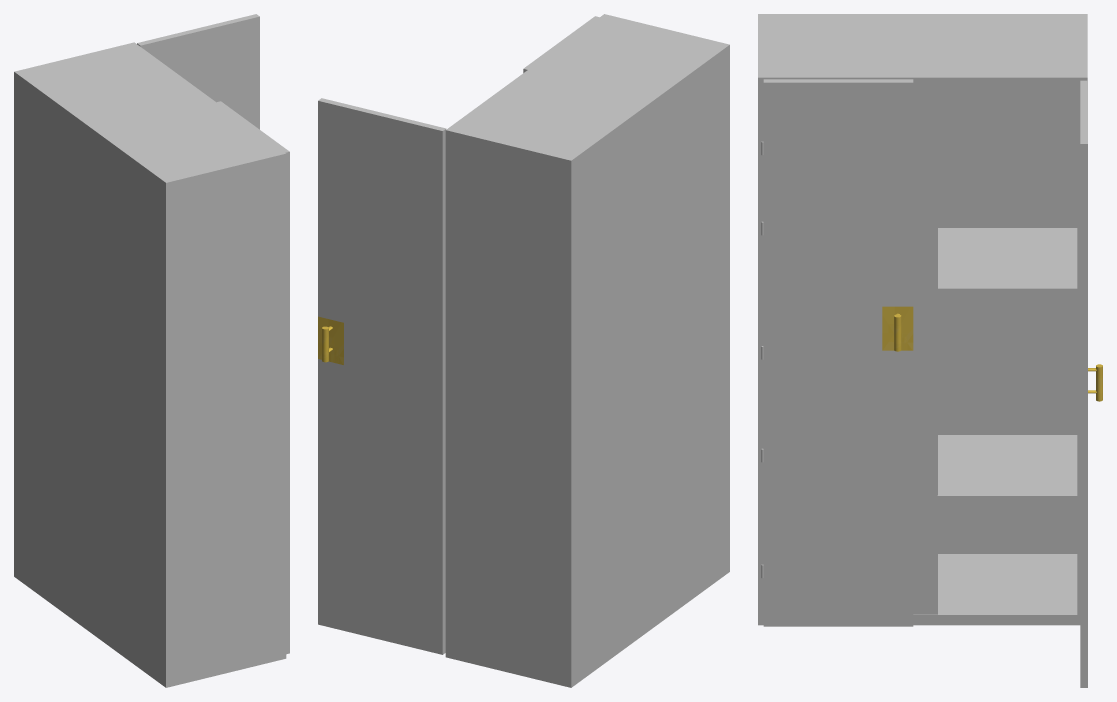
The model's file is armari.obj.
3 renders of one model, left to right at view 1: azimuth 30°, elevation 25°; view 2: azimuth 150°, elevation 25°; view 3: azimuth 270°, elevation 25°, orthographic. The views are drawn at different scales.
Parts seen in each view (by area): view 1: armario; view 2: armario; view 3: armario.
Part boxes in pixels (bbox=[...]): armario: bbox=[14, 14, 289, 687]; armario: bbox=[318, 14, 729, 687]; armario: bbox=[758, 14, 1102, 687].
Bounding box in the file's own units: 1.38 × 2.75 × 1.57.
